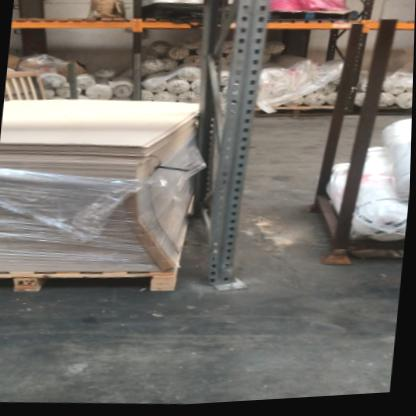vertical_damage: (200, 237, 254, 302)
